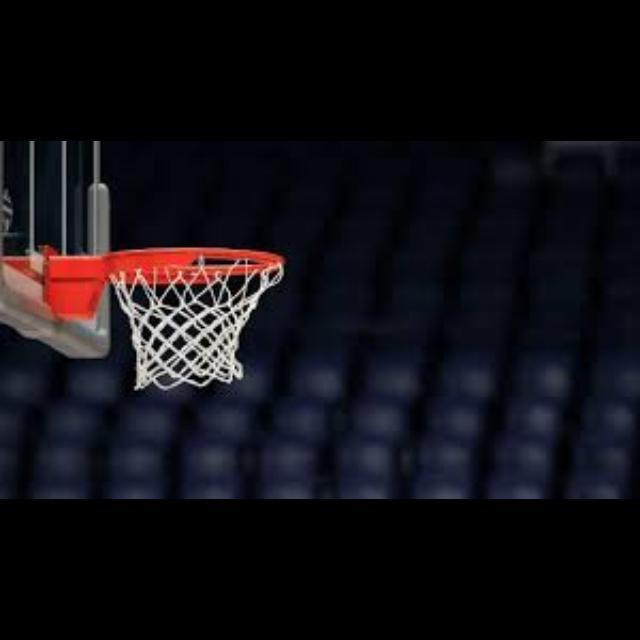rim: (108, 248, 284, 388)
